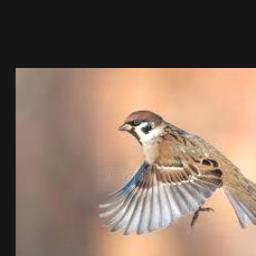Sparrow: (99, 110, 256, 235)
